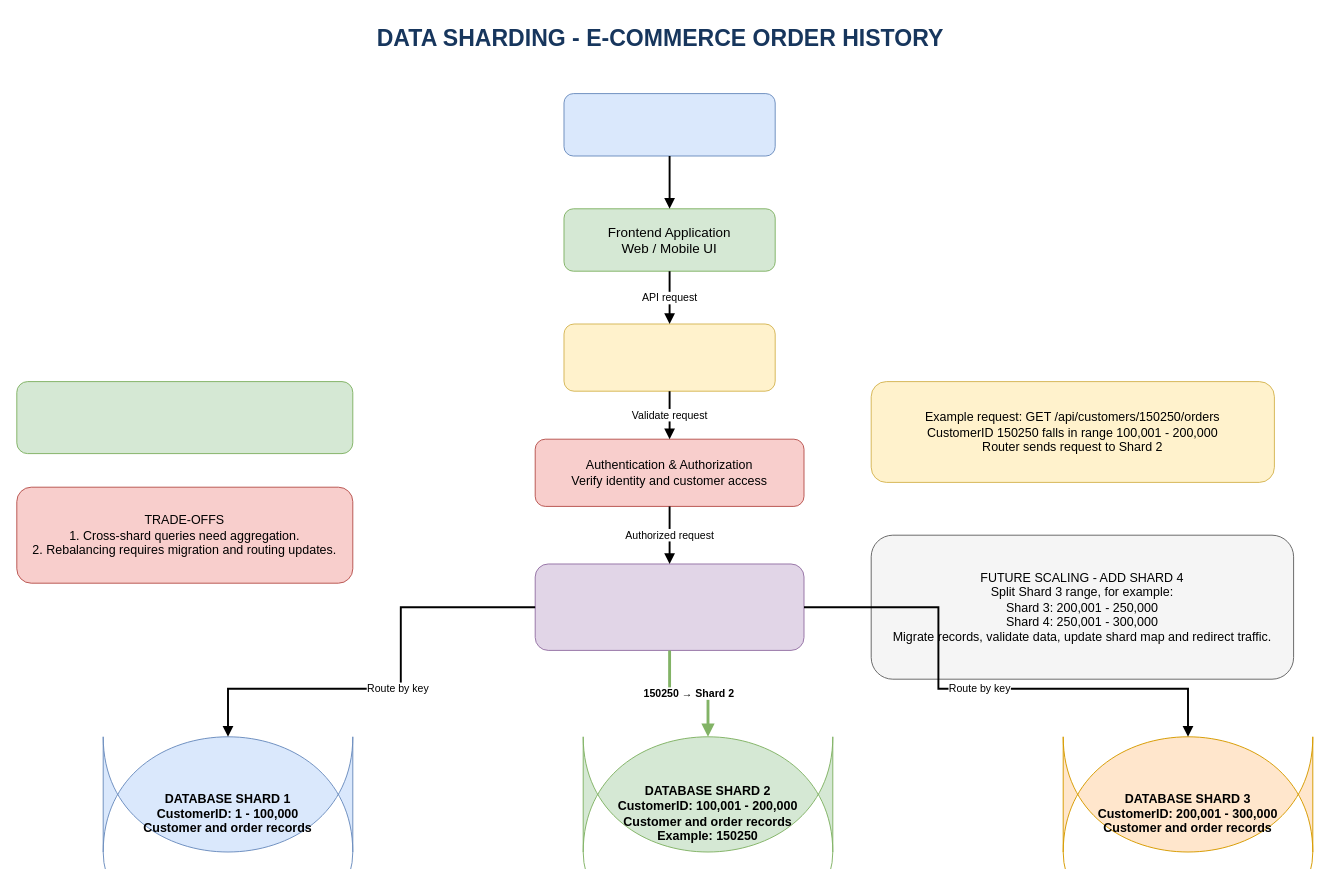
The diagram is 1330 pixels wide and 869 high, and some of its shapes have lost their labels. Here are the shapes that lost their labels. From the top down, the centre of each, then its label:
At (669,124): "Customer / Browser Views order history".
At (669,357): "Application API Request validation and business logic".
At (184,417): "MAIN BENEFIT Horizontal database scaling and workload distribution".
At (669,606): "SHARD ROUTER Reads CustomerID and shard map Selects destination database".
